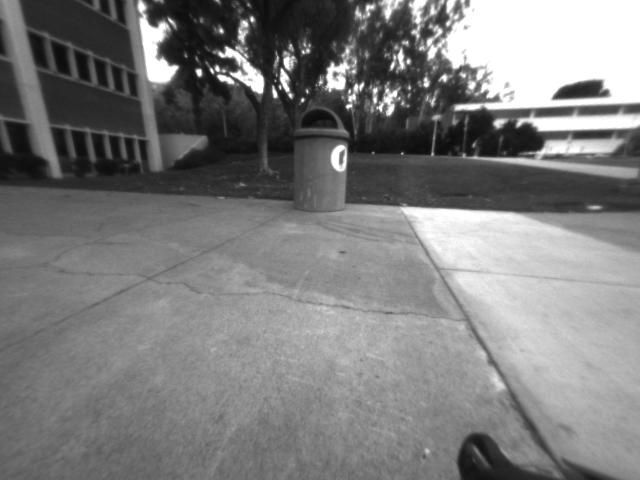trashcan: (278, 104, 362, 219)
